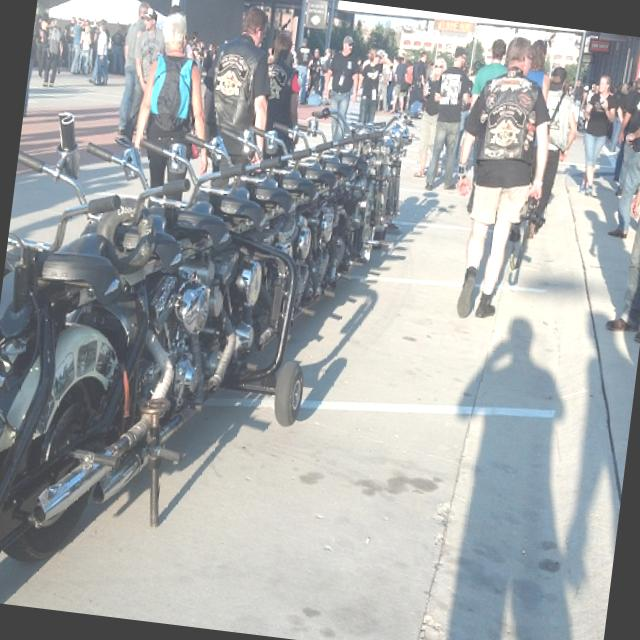Vehicle: (16, 166, 246, 546), (0, 145, 144, 596), (60, 141, 275, 379), (123, 135, 310, 265), (293, 102, 412, 258), (277, 121, 376, 268), (264, 146, 346, 298), (187, 188, 284, 248), (374, 124, 414, 226)
